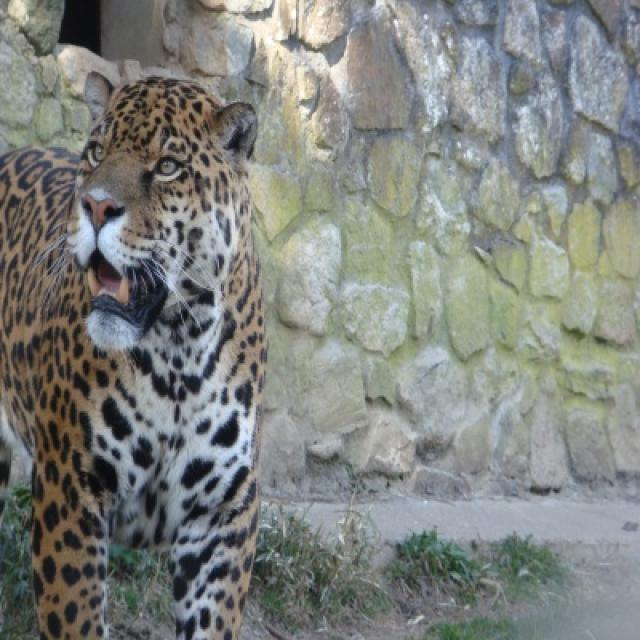Jaguar: (0, 77, 269, 638)
